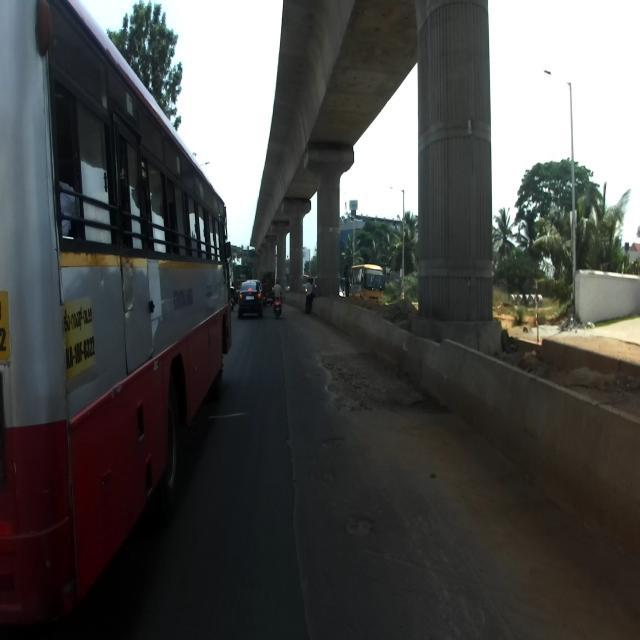pothole: (326, 316, 438, 420), (323, 480, 393, 558)
